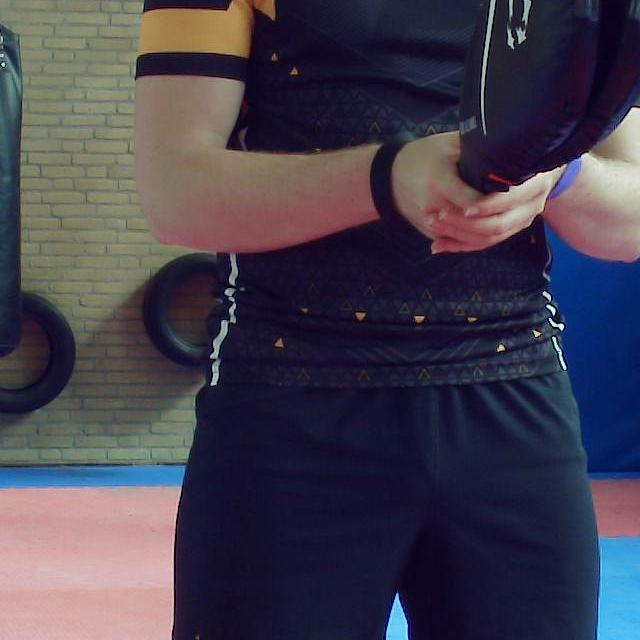paddle: (453, 0, 640, 192)
